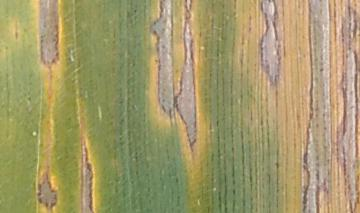tarspot: (274, 161, 281, 171), (318, 67, 323, 71)
